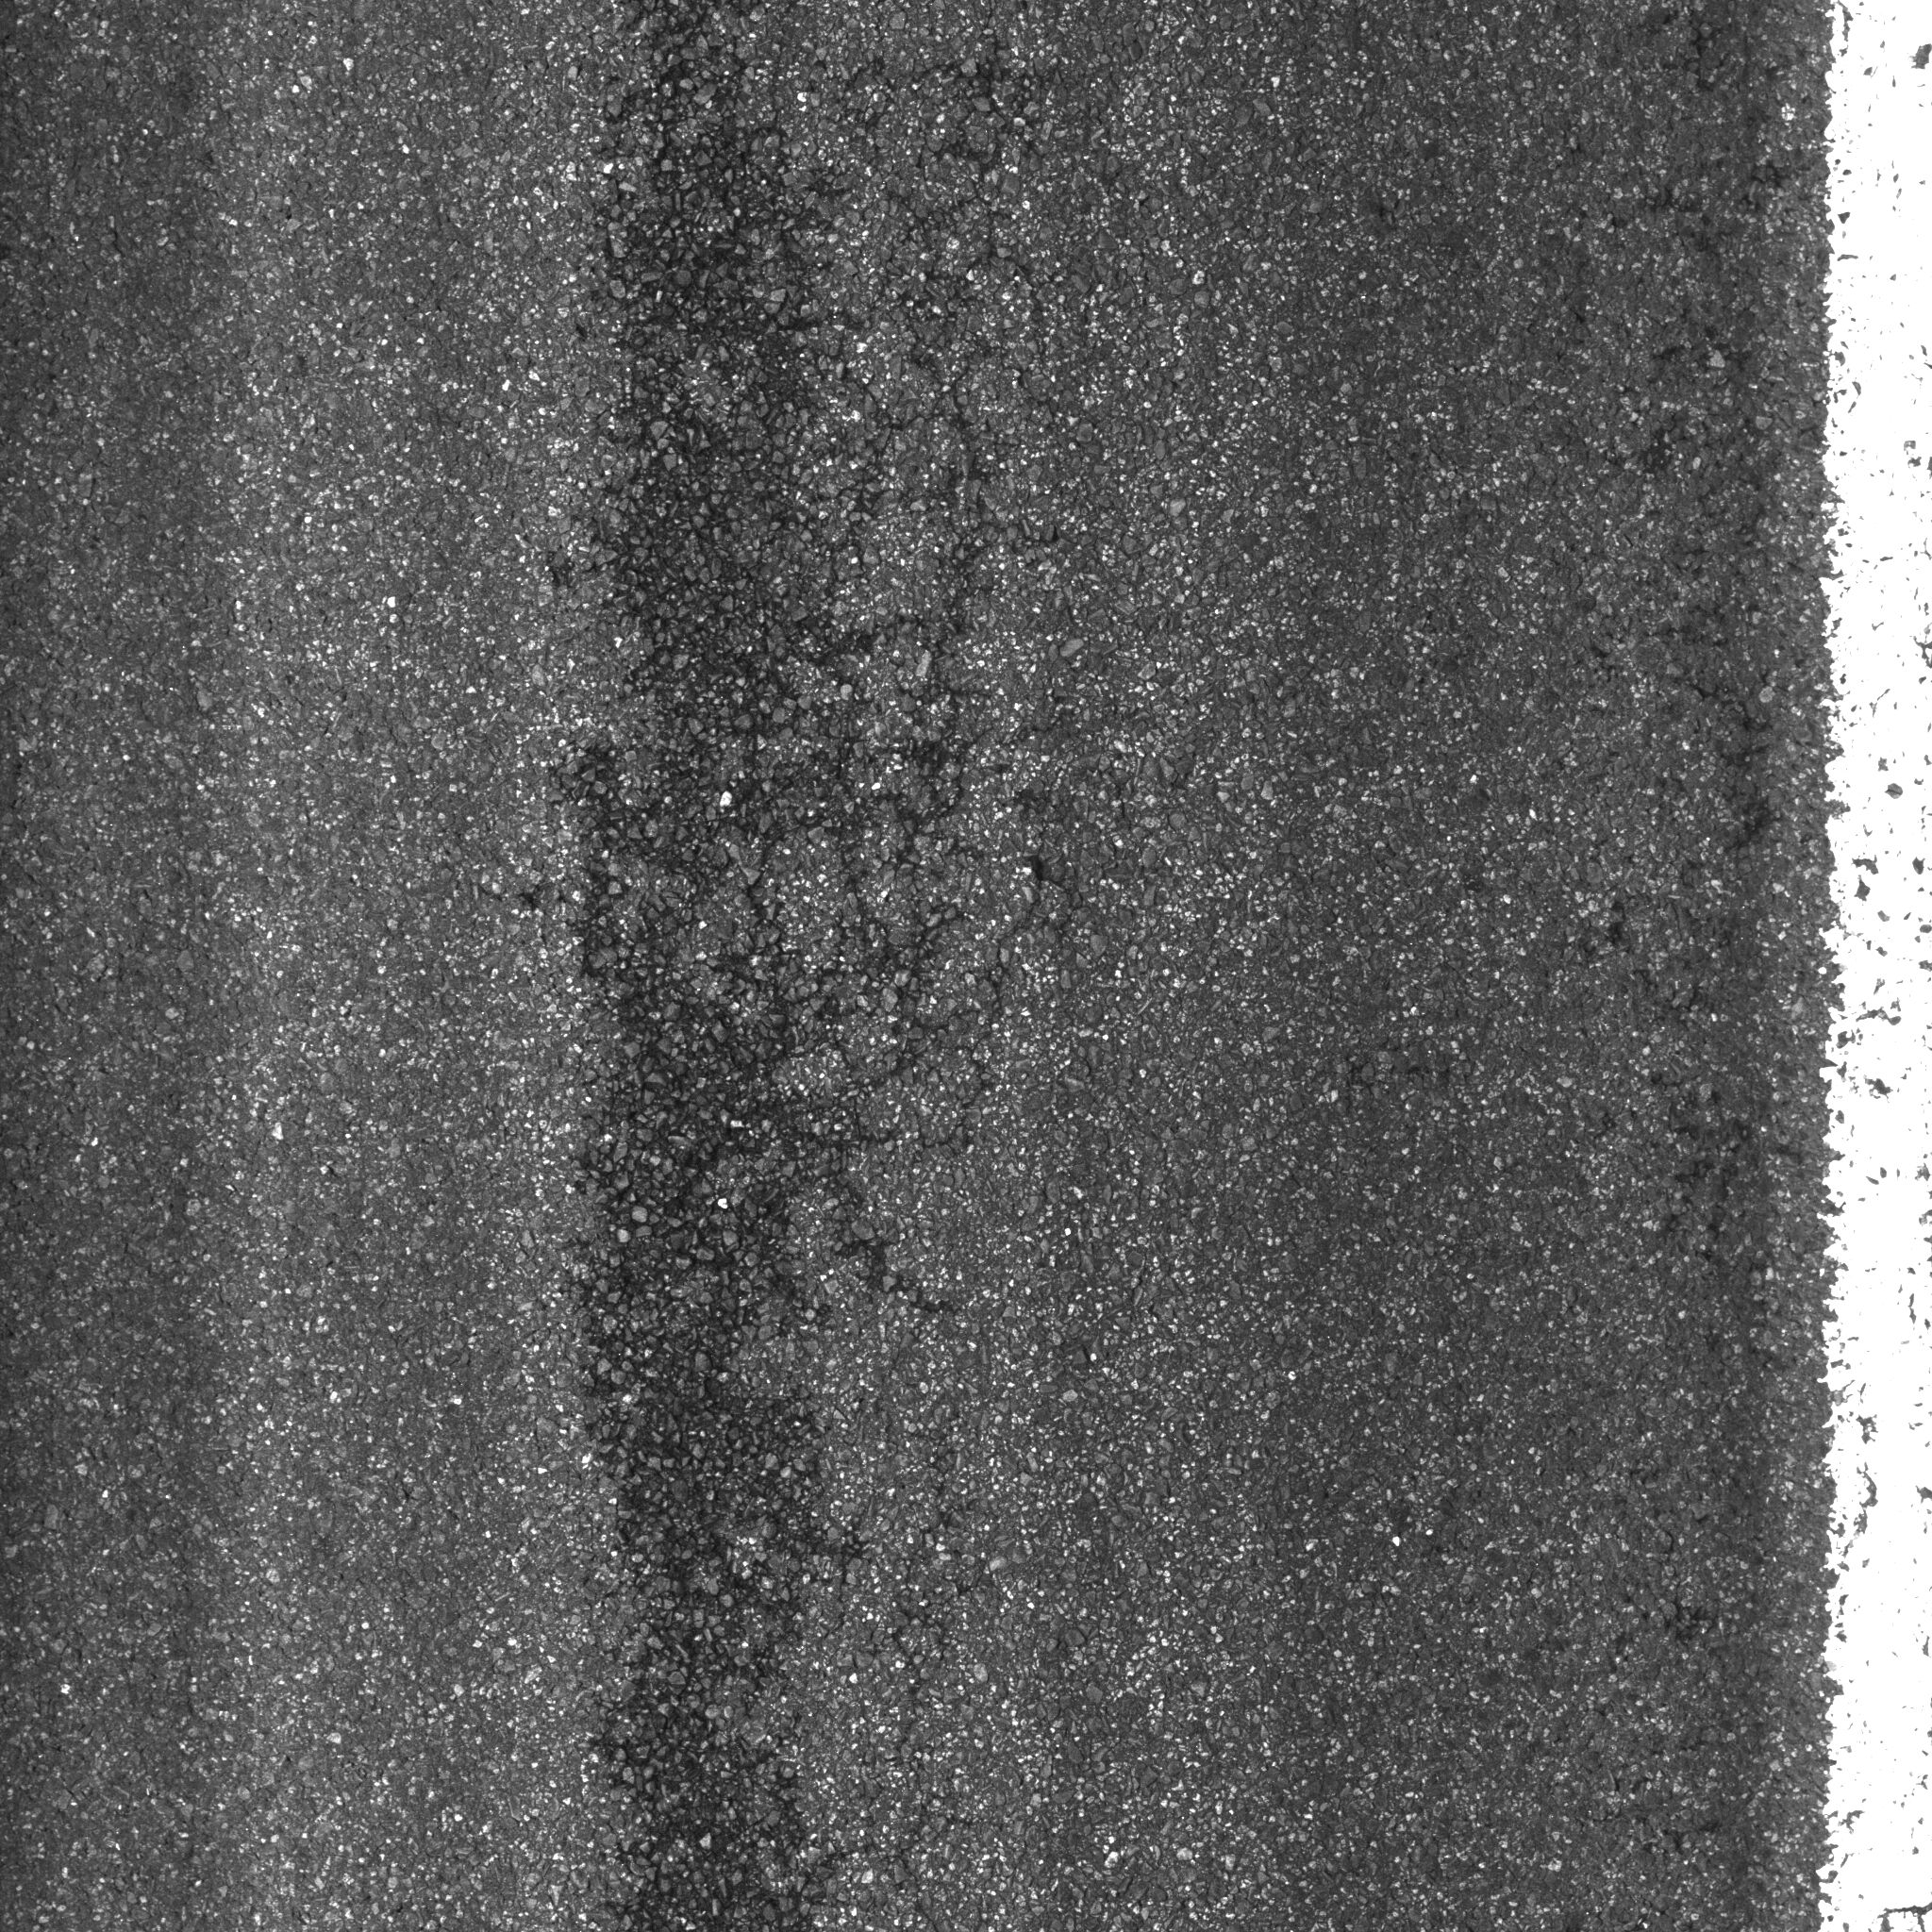alligator: (437, 12, 1123, 1928)
